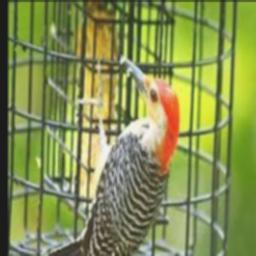Woodpecker: (45, 54, 180, 256)
